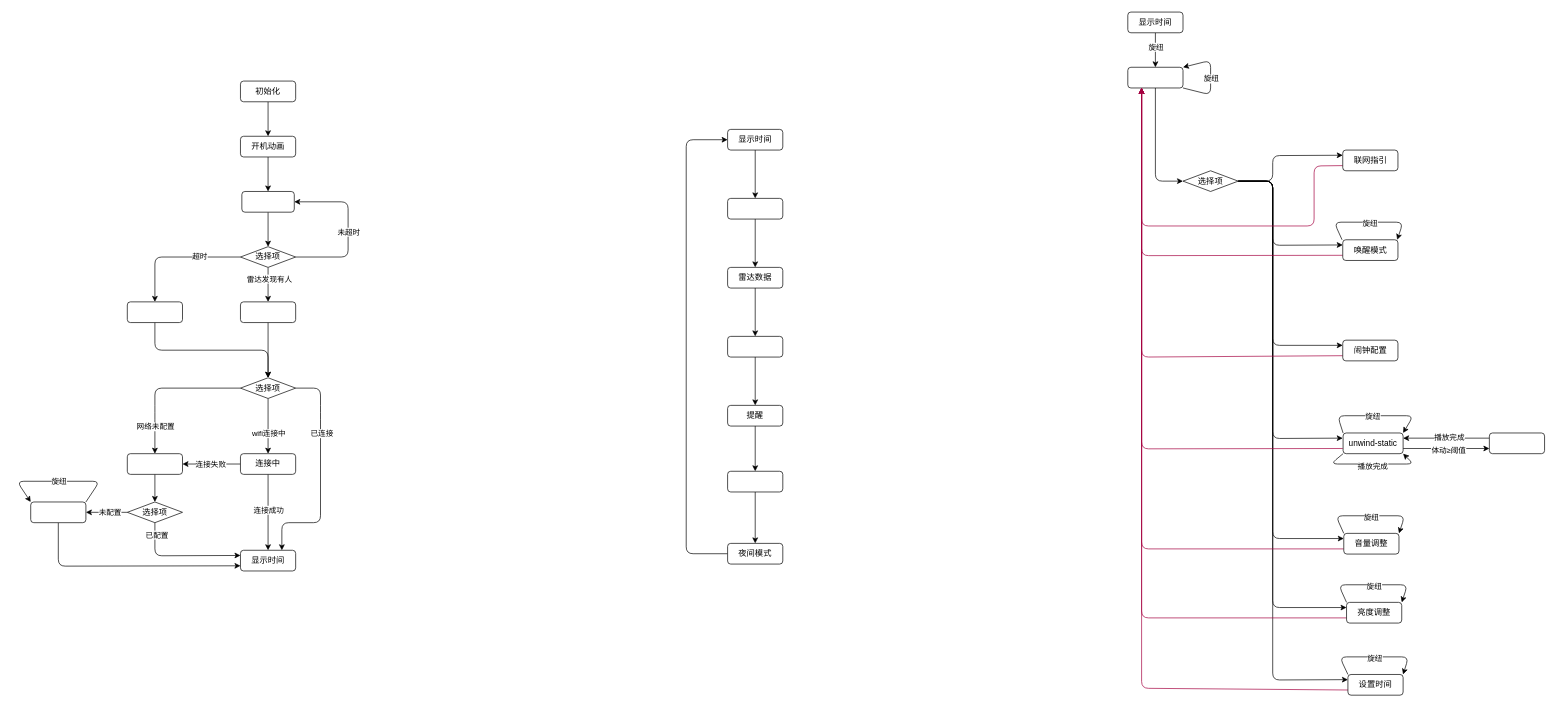
Some shapes in this 1557 by 708 pixel diagram are drawn without their labels. The box of each missing label's shape, as (x1, y1, x2, y2) in pixels:
unwind-dyn: (1489, 432, 1545, 454)
入睡提示Demo: (727, 471, 783, 492)
功能旋转: (1127, 67, 1183, 88)
找人动画: (241, 191, 294, 212)
找人失败动画: (127, 301, 183, 323)
找人成功动画: (240, 301, 296, 323)
早报Demo: (727, 336, 783, 357)
时间配置: (30, 501, 86, 523)
睡眠数据: (727, 198, 783, 219)
网络指导: (127, 453, 183, 474)
